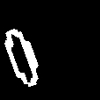chain: (5, 29, 37, 86)
